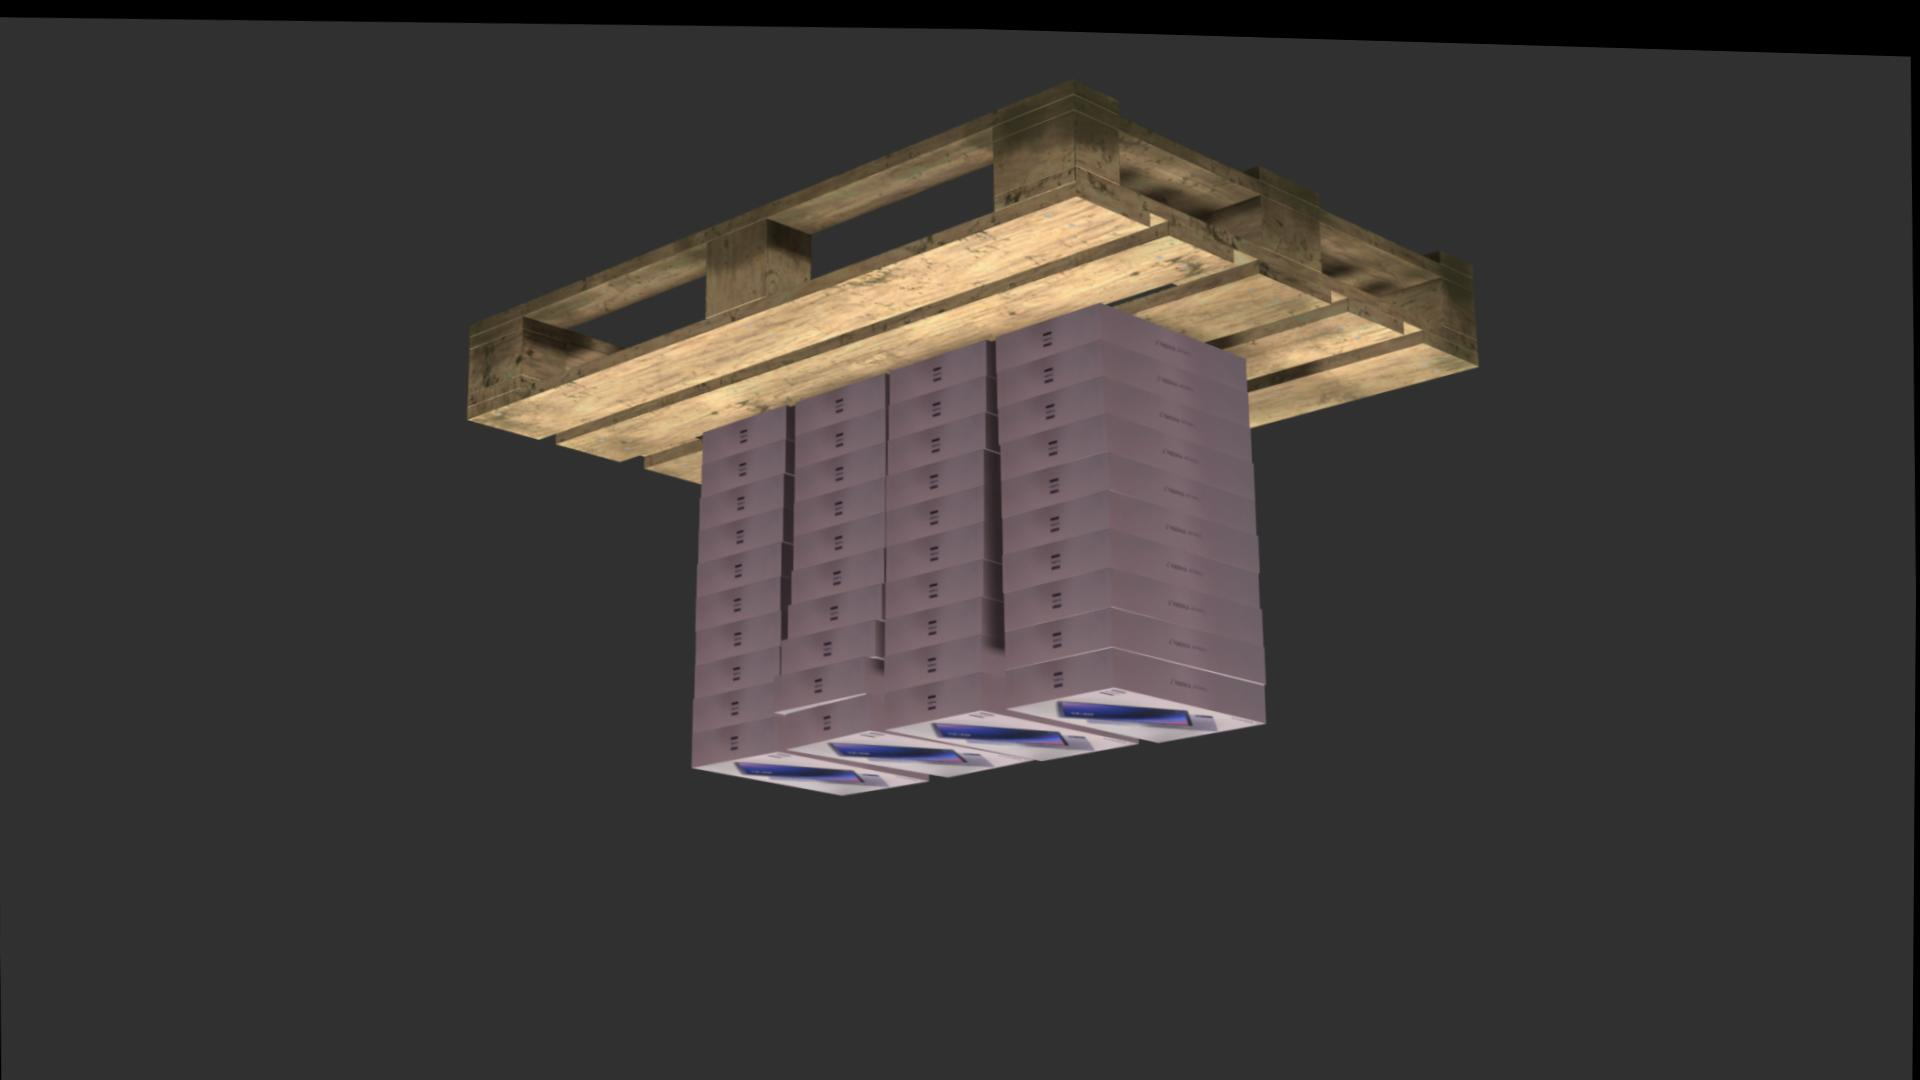palet: (467, 70, 1482, 480)
tablet_left: (996, 295, 1247, 382), (1001, 406, 1255, 491), (1000, 369, 1253, 454), (997, 334, 1250, 418), (1001, 444, 1258, 526), (1004, 483, 1261, 563), (1005, 560, 1265, 637), (1005, 600, 1267, 675), (1004, 522, 1261, 599), (1007, 638, 1267, 713), (887, 442, 1001, 506), (885, 666, 1007, 724), (886, 479, 1001, 541), (886, 591, 1004, 650), (886, 626, 1006, 684), (887, 514, 1002, 575), (890, 332, 996, 398), (889, 406, 998, 469), (890, 369, 997, 434), (887, 553, 1004, 612), (774, 650, 884, 705), (782, 613, 885, 670), (796, 367, 886, 429), (787, 688, 885, 745), (794, 471, 886, 530), (795, 402, 887, 462), (794, 506, 885, 566), (789, 578, 885, 633), (791, 542, 885, 599), (795, 438, 886, 496), (703, 433, 787, 492), (704, 400, 789, 459), (700, 468, 786, 526), (700, 501, 785, 558), (696, 571, 785, 625), (699, 537, 783, 592), (696, 607, 782, 659), (694, 711, 781, 762), (696, 641, 781, 694), (695, 676, 777, 728)
tablet_top: (1007, 679, 1266, 737), (890, 703, 1137, 757), (789, 724, 1030, 773), (694, 746, 930, 791)
